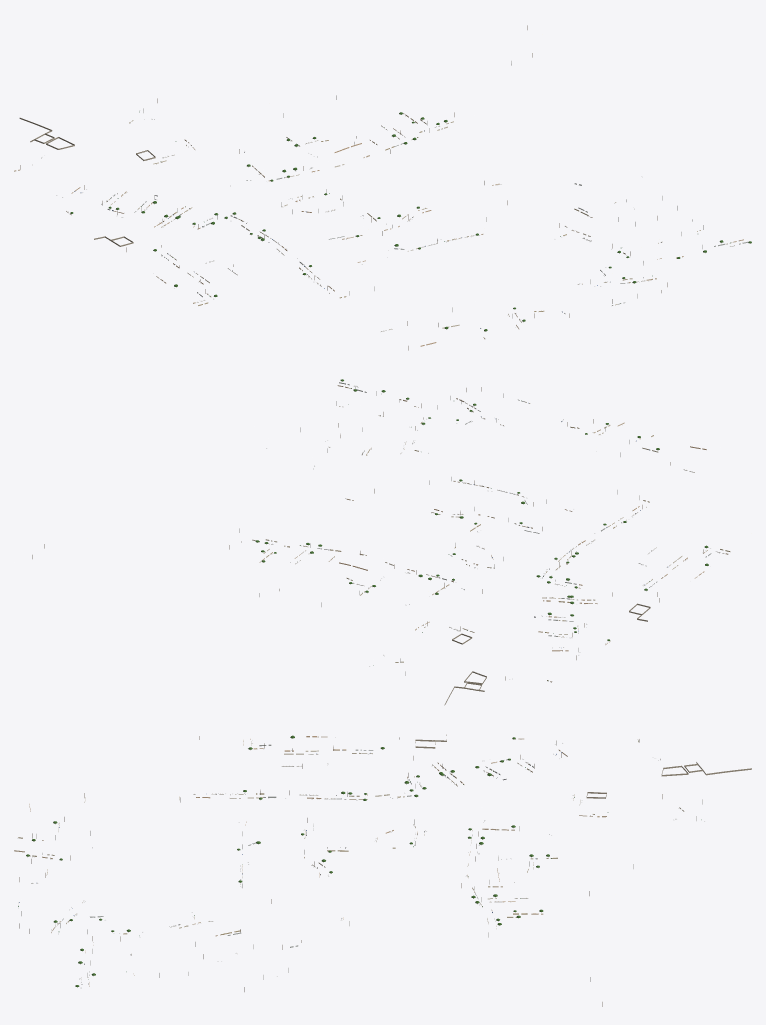
The model's file is nd_stm_m7_m6.glb.
3 renders of one model, top to bottom at view 1: azimuth 30°, elevation 25°; view 2: azimuth 150°, elevation 25°; view 3: azimuth 270°, elevation 25°, orthographic. The views are drawn at different scales.
Visible parts, largest first — view 1: nd_stm_m7_m6_lod0; view 2: nd_stm_m7_m6_lod0; view 3: nd_stm_m7_m6_lod0.
Boxes of the visible parts, x1,y1,x2,y2 form: nd_stm_m7_m6_lod0: (14, 25, 751, 350); nd_stm_m7_m6_lod0: (32, 379, 730, 705); nd_stm_m7_m6_lod0: (14, 734, 751, 1006).
Size of what is drawn, in the model's own units: 962 by 24.38 by 1058.
